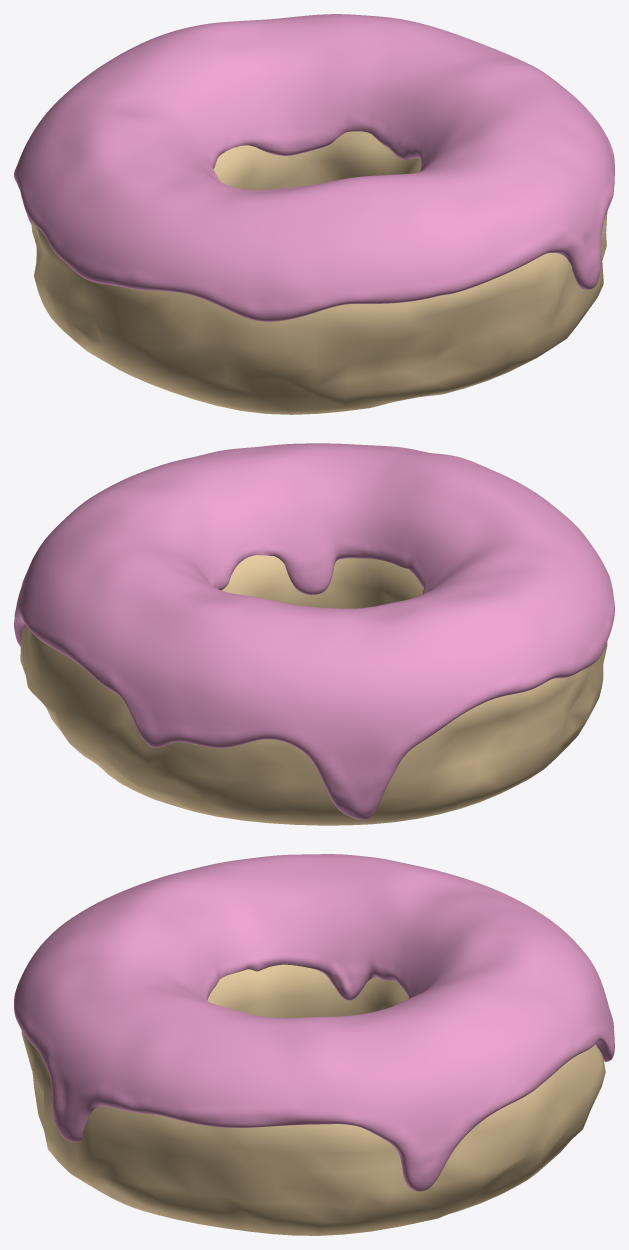
File: donut_0.glb
3 renders of one model, top to bottom at view 1: azimuth 30°, elevation 25°; view 2: azimuth 150°, elevation 25°; view 3: azimuth 270°, elevation 25°, orthographic.
Parts seen in each view (by area): view 1: 047be21efa814473a477aeac79bbb6cd; view 2: 047be21efa814473a477aeac79bbb6cd; view 3: 047be21efa814473a477aeac79bbb6cd.
Boxes of the visible parts, x1,y1,x2,y2 form: 047be21efa814473a477aeac79bbb6cd: (14,14,614,414); 047be21efa814473a477aeac79bbb6cd: (14,443,614,825); 047be21efa814473a477aeac79bbb6cd: (14,854,614,1235).
Bounding box in the file's own units: 0.9789 × 0.3956 × 1.
